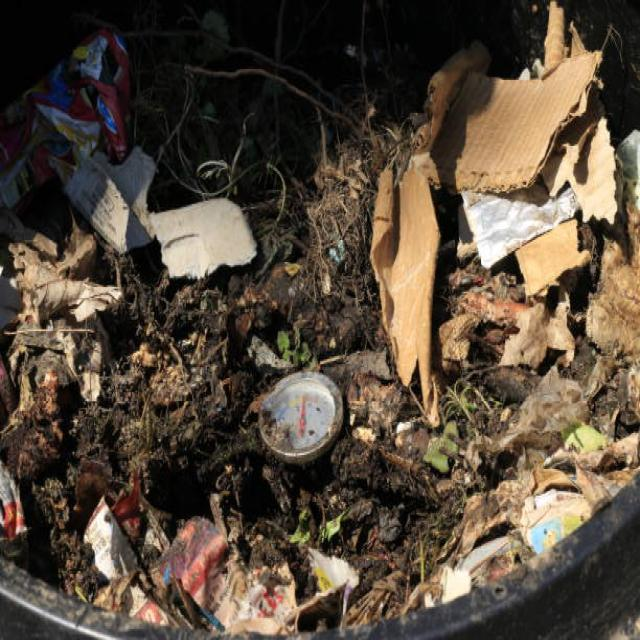cardboard: (433, 6, 600, 320)
